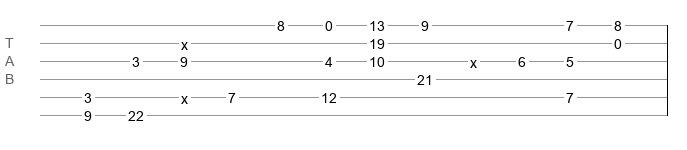0: (325, 18, 333, 28), (614, 36, 622, 46)
10: (369, 54, 385, 64)
12: (321, 90, 337, 100)
13: (369, 18, 385, 28)
19: (369, 36, 385, 46)
21: (417, 72, 433, 82)
22: (128, 108, 144, 118)
3: (84, 90, 92, 100), (132, 54, 140, 64)
4: (325, 54, 333, 64)
5: (566, 54, 574, 64)
6: (518, 54, 526, 64)
7: (228, 90, 236, 100), (566, 90, 574, 100), (566, 18, 574, 28)
8: (277, 18, 285, 28), (614, 18, 622, 28)
9: (84, 108, 92, 118), (180, 54, 188, 64), (421, 18, 429, 28)
x: (181, 91, 188, 99), (181, 37, 188, 45), (470, 55, 477, 63)
